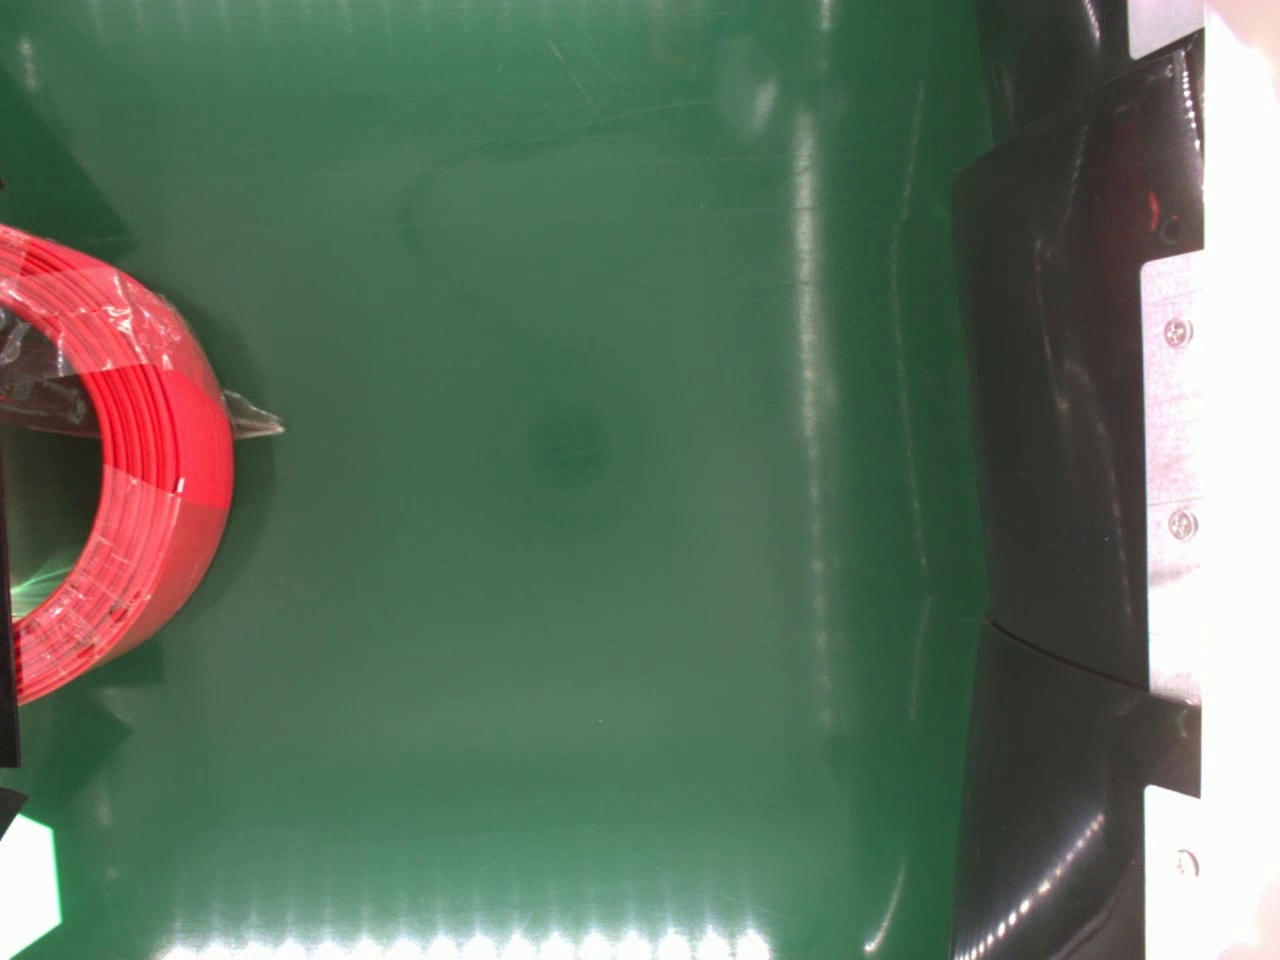red: (0, 223, 241, 705)
